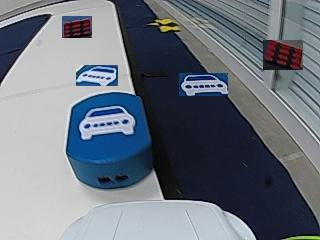safety: (78, 106, 137, 138)
